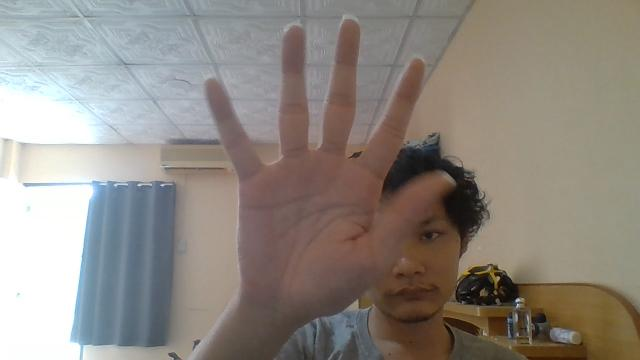Stop: (201, 14, 425, 322)
